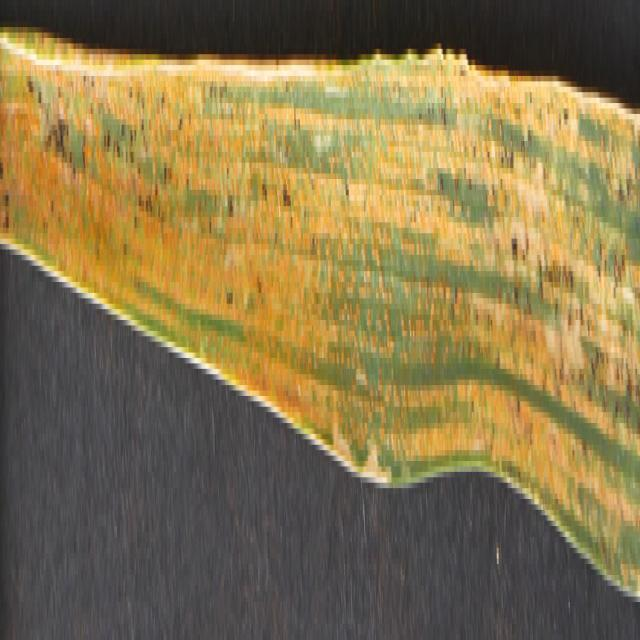leaf rust: (1, 6, 639, 526)
